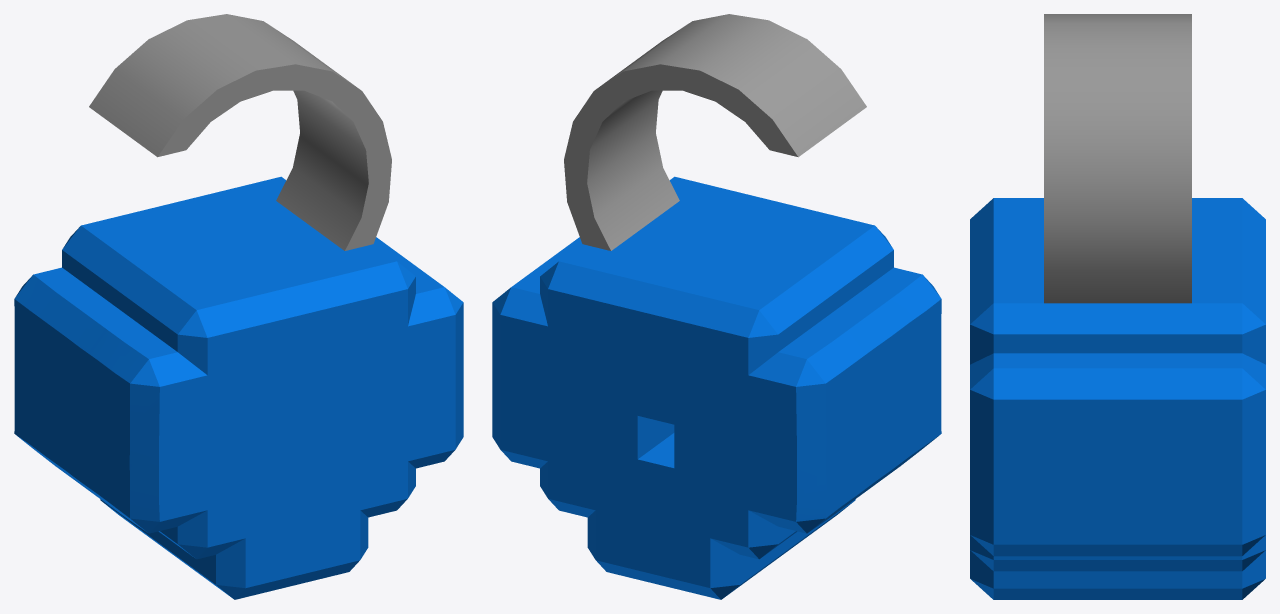
The model's file is Lock_Open_Blue.fbx.
3 renders of one model, left to right at view 1: azimuth 30°, elevation 25°; view 2: azimuth 150°, elevation 25°; view 3: azimuth 270°, elevation 25°, orthographic. The views are drawn at different scales.
Visible parts, largest first — view 1: Lock_Open_Blue; view 2: Lock_Open_Blue; view 3: Lock_Open_Blue.
Part boxes in pixels (x1=…): Lock_Open_Blue: x1=14, y1=14, x2=463, y2=599; Lock_Open_Blue: x1=492, y1=14, x2=941, y2=599; Lock_Open_Blue: x1=970, y1=14, x2=1265, y2=599.
Bounding box in the file's own units: 7 × 10.06 × 5.
